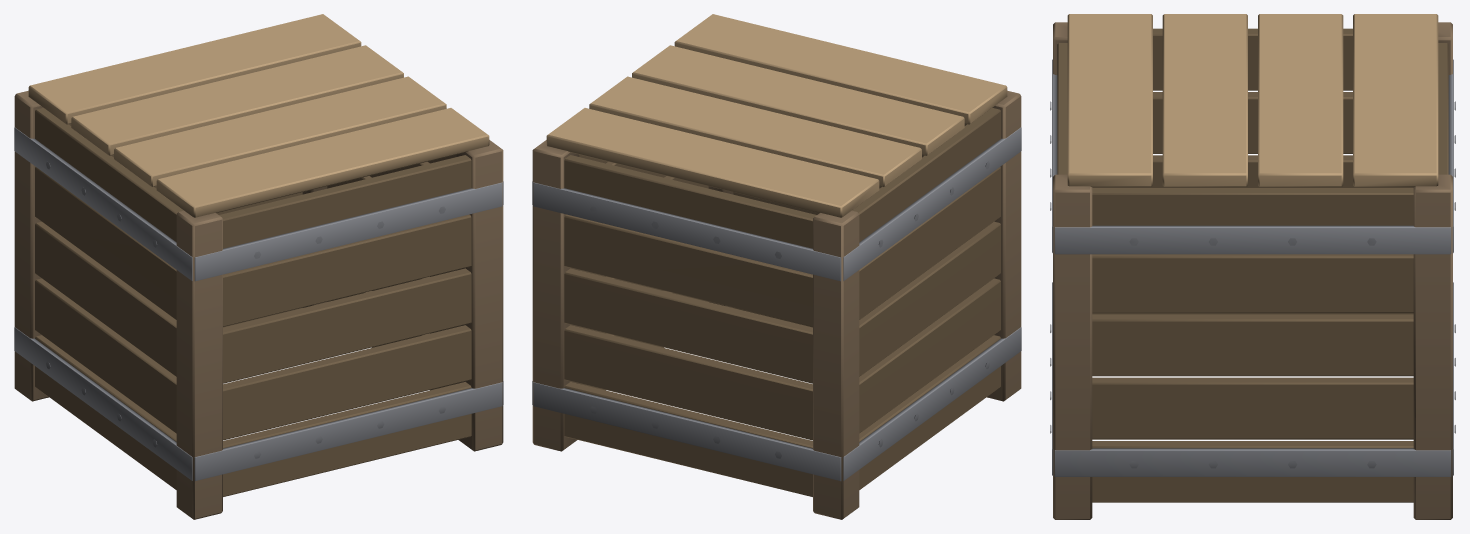
The model's file is rig_crate.glb.
The picture shows the model from 3 angles, left to right: view 1: azimuth 30°, elevation 25°; view 2: azimuth 150°, elevation 25°; view 3: azimuth 270°, elevation 25°; orthographic projection. The views are drawn at different scales.
Visible parts, largest first — view 1: rig_crate; view 2: rig_crate; view 3: rig_crate.
Boxes of the visible parts, <box> form: rig_crate: <box>14,14,503,519</box>; rig_crate: <box>532,14,1021,519</box>; rig_crate: <box>1050,14,1455,519</box>.
Bounding box in the file's own units: 1.02 × 0.954 × 1.02.
